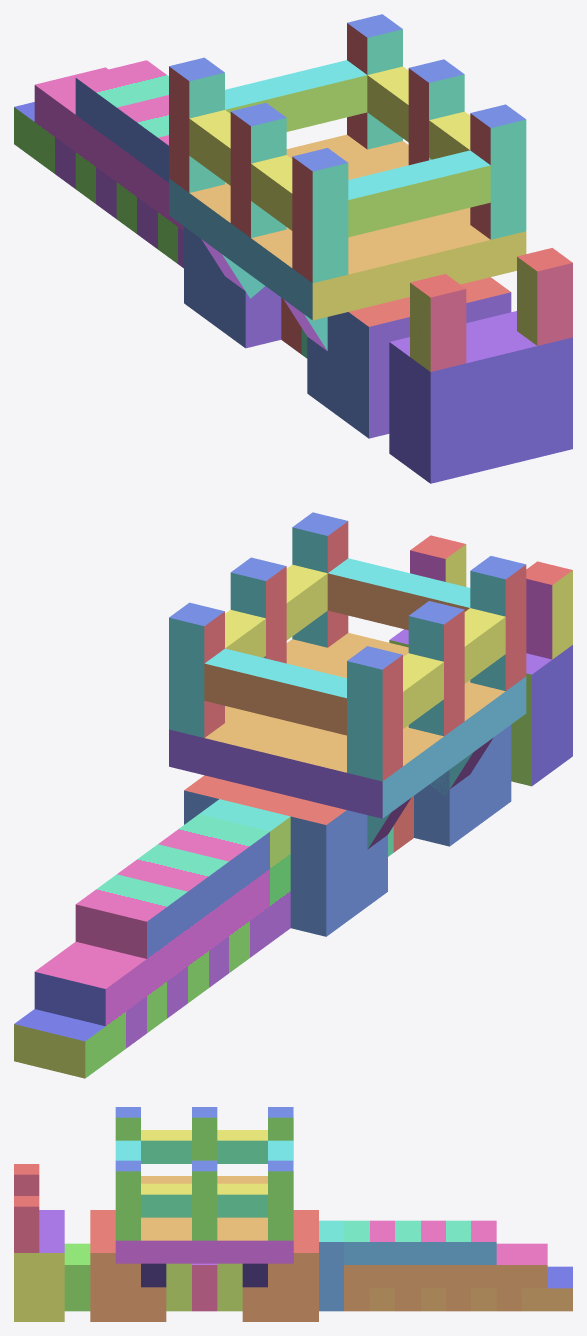
The model's file is item_collector.gltf.
3 views of the same model, one above another, from view 1: azimuth 30°, elevation 25°; view 2: azimuth 150°, elevation 25°; view 3: azimuth 270°, elevation 25° (orthographic). The views are drawn at different scales.
Visible parts, largest first — view 1: Crate, Object 1, Group 18 (×4), Front Segments, Back Segments, Left, Right, Tail, Supports, Body Back; view 2: Crate, Group 18 (×4), Back Segments, Tail, Object 1, Front Segments, Left, Right, Supports, Body Front; view 3: Crate, Group 18 (×4), Front Segments, Tail, Back Segments, Object 1, Right, Supports, Body Front, Body Back, Group 1, Left.
Boxes of the visible parts, x1,y1,x2,y2 form: Crate: [169, 14, 526, 320]; Object 1: [389, 311, 572, 483]; Group 18 (×4): [14, 60, 168, 249]; Front Segments: [307, 277, 511, 438]; Back Segments: [184, 226, 281, 348]; Left: [410, 274, 466, 371]; Right: [517, 248, 572, 345]; Tail: [158, 135, 183, 268]; Supports: [201, 239, 327, 350]; Body Back: [281, 298, 301, 354]; Crate: [169, 512, 526, 818]; Group 18 (×4): [14, 844, 228, 1078]; Back Segments: [184, 775, 387, 936]; Tail: [158, 799, 290, 972]; Object 1: [389, 629, 572, 786]; Front Segments: [414, 725, 511, 846]; Left: [526, 561, 572, 659]; Right: [410, 535, 466, 586]; Supports: [367, 737, 493, 849]; Body Front: [393, 796, 413, 852]; Crate: [115, 1107, 293, 1263]; Group 18 (×4): [395, 1220, 572, 1311]; Front Segments: [64, 1210, 166, 1321]; Tail: [319, 1220, 394, 1311]; Back Segments: [242, 1210, 318, 1321]; Object 1: [14, 1210, 64, 1321]; Right: [14, 1196, 39, 1252]; Supports: [141, 1263, 267, 1287]; Body Front: [166, 1263, 191, 1311]; Body Back: [217, 1263, 242, 1311]; Group 1: [192, 1263, 217, 1311]; Left: [14, 1164, 39, 1195].
Size of the model in its own units: 0.375 by 0.4375 by 1.38.
